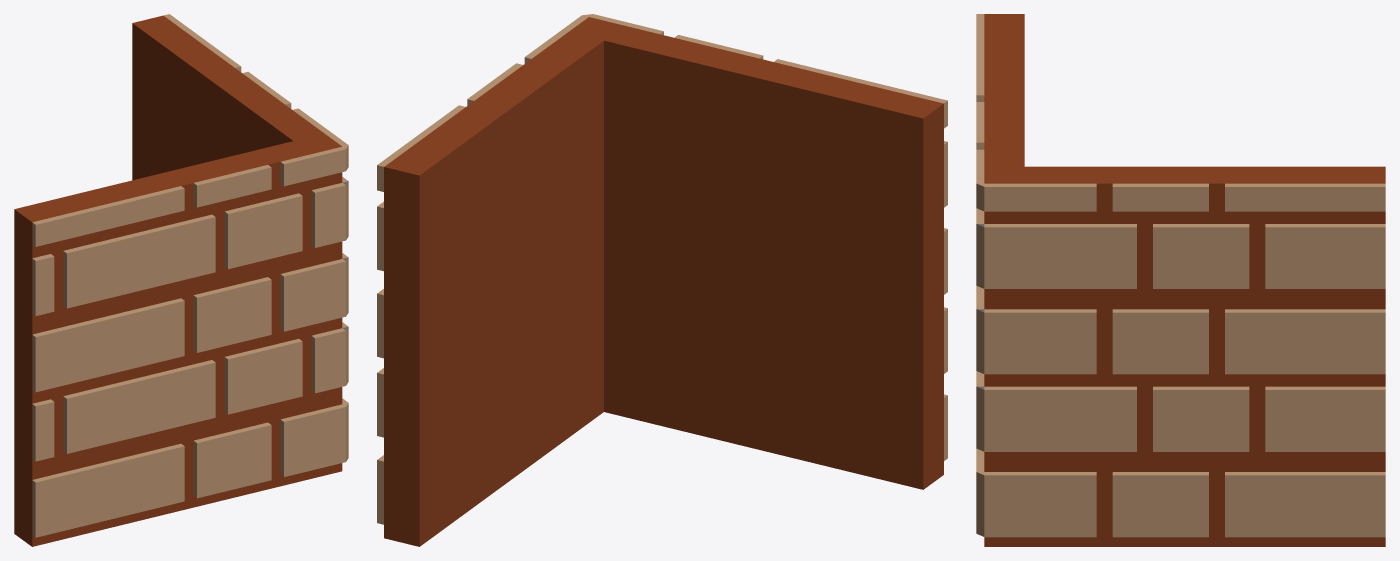
Rendered from BrickV1CornerHalfWall.fbx.
3 views of the same model, side by side, from view 1: azimuth 30°, elevation 25°; view 2: azimuth 150°, elevation 25°; view 3: azimuth 270°, elevation 25° (orthographic). The views are drawn at different scales.
Parts seen in each view (by area): view 1: BrickV1CornerHalfWall; view 2: BrickV1CornerHalfWall; view 3: BrickV1CornerHalfWall.
Part boxes in pixels (x1,y1,x2,y2): BrickV1CornerHalfWall: (14, 14, 348, 546); BrickV1CornerHalfWall: (377, 14, 947, 546); BrickV1CornerHalfWall: (976, 14, 1385, 546).
Bounding box in the file's own units: 102 × 100 × 102.
